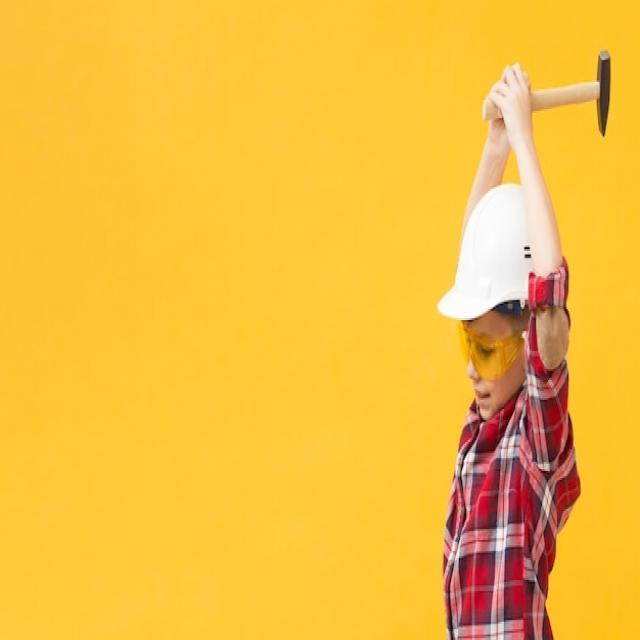hammer: (488, 44, 624, 144)
